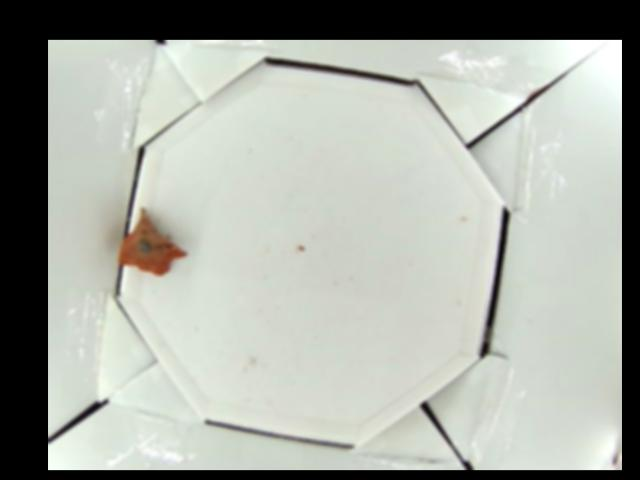Brisk: (117, 205, 186, 275)
